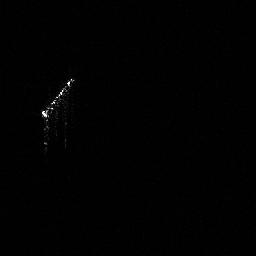ship: (34, 71, 79, 149)
